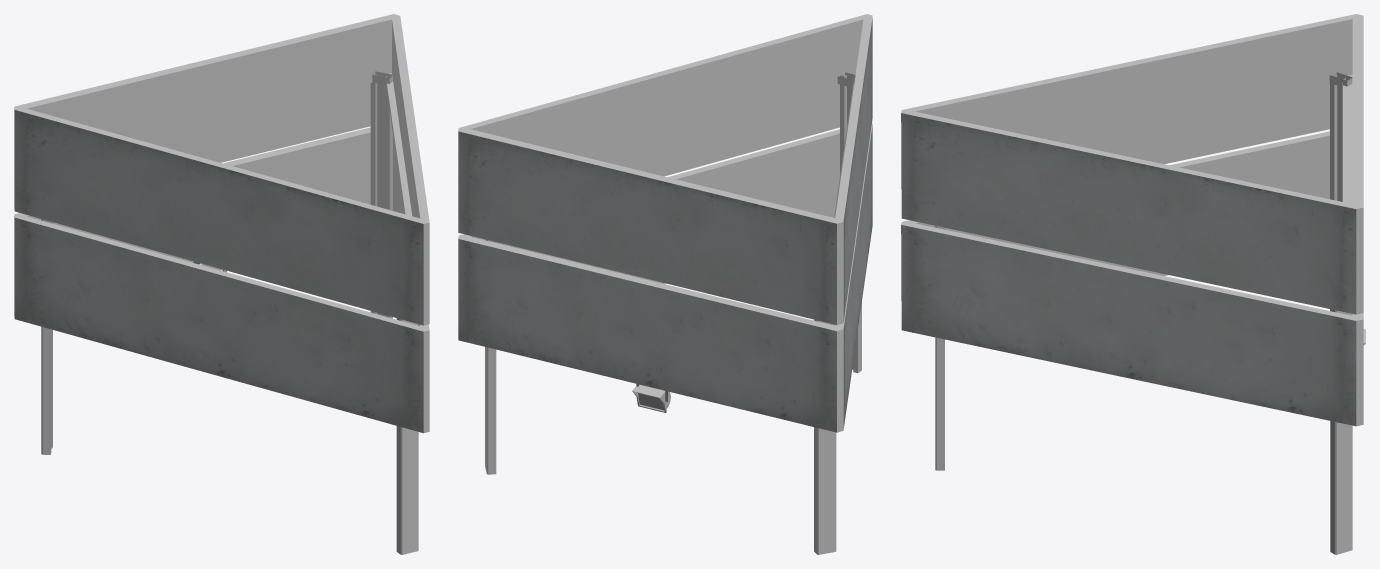
The model's file is Billboard_Triangle.fbx.
3 views of the same model, side by side, from view 1: azimuth 30°, elevation 25°; view 2: azimuth 150°, elevation 25°; view 3: azimuth 270°, elevation 25° (orthographic). The views are drawn at different scales.
Visible parts, largest first — view 1: Adverts, Legs, Frame; view 2: Adverts, Legs, Frame, Floodlight_Case; view 3: Adverts, Legs, Frame.
Boxes of the visible parts, <box> form: Adverts: <box>14,14,429,433</box>; Legs: <box>41,71,418,554</box>; Frame: <box>123,73,412,269</box>; Adverts: <box>458,14,872,432</box>; Legs: <box>485,72,861,554</box>; Frame: <box>565,76,853,282</box>; Floodlight_Case: <box>632,384,670,412</box>; Adverts: <box>901,14,1363,426</box>; Legs: <box>935,72,1352,554</box>; Frame: <box>1036,74,1352,274</box>.
Bounding box in the file's own units: 6.41 × 5.43 × 6.45.
